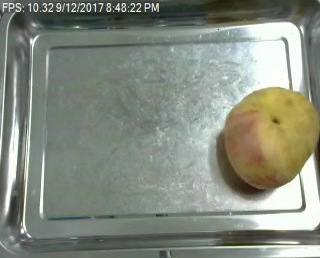Peach: (221, 87, 319, 189)
